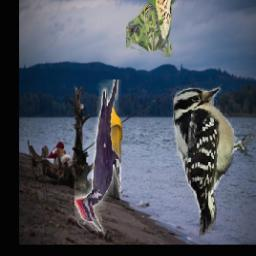Sparrow: (126, 0, 176, 58)
Woodpecker: (171, 85, 256, 236), (75, 81, 122, 232)
